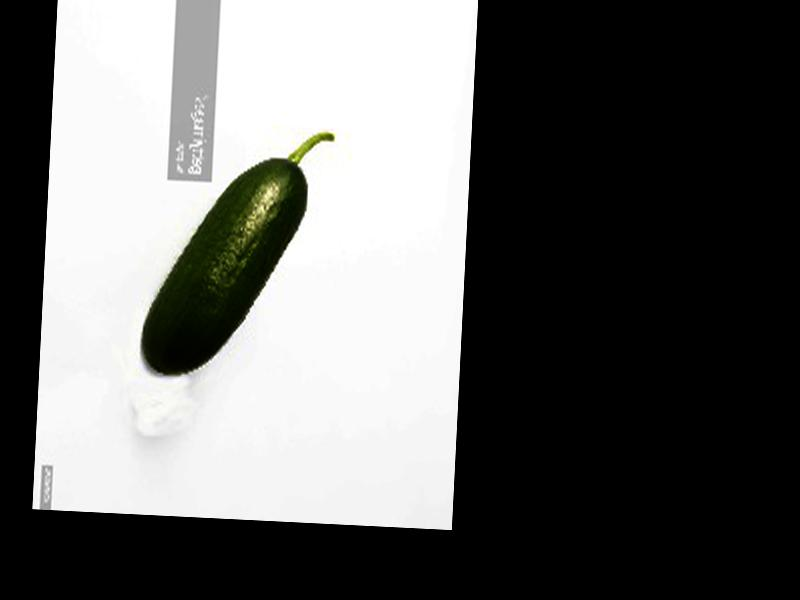Cucumber: (138, 119, 332, 379)
